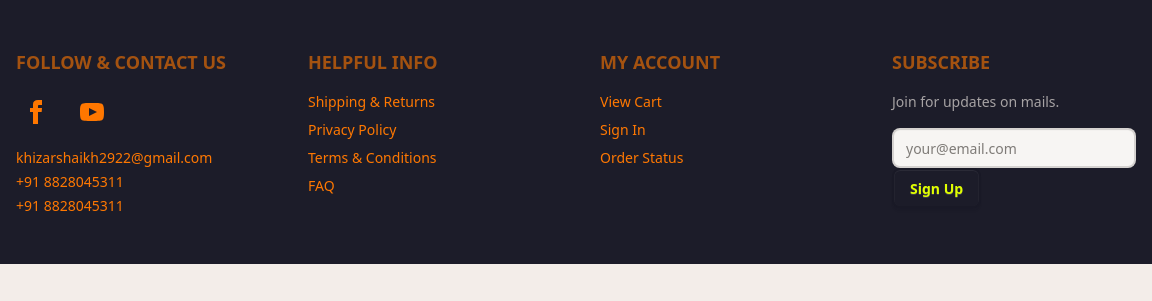
Test: Footer Component › should show validation error if email is empty
Step 1. Click the button "Sign Up" → click(937, 188), box [892,168,981,208]
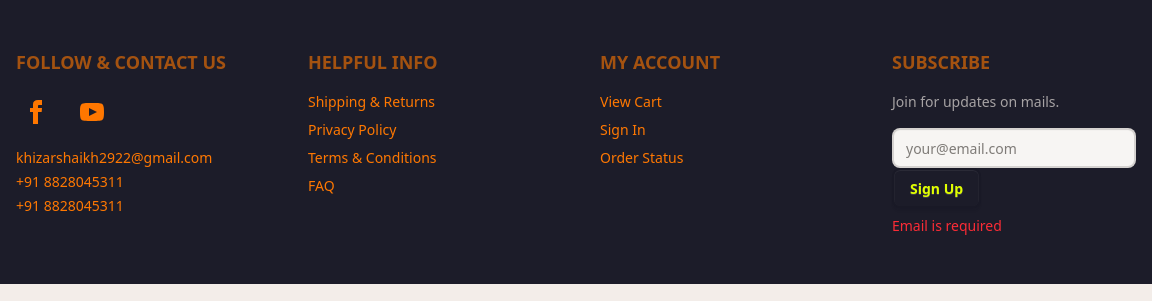
Result: the text "Email is required" is shown at [892,216,1002,235]
